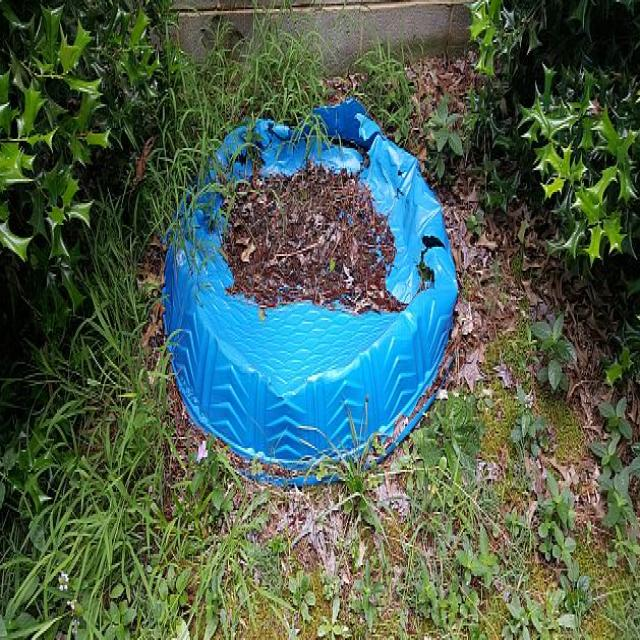Breeding Place: (158, 130, 478, 453)
